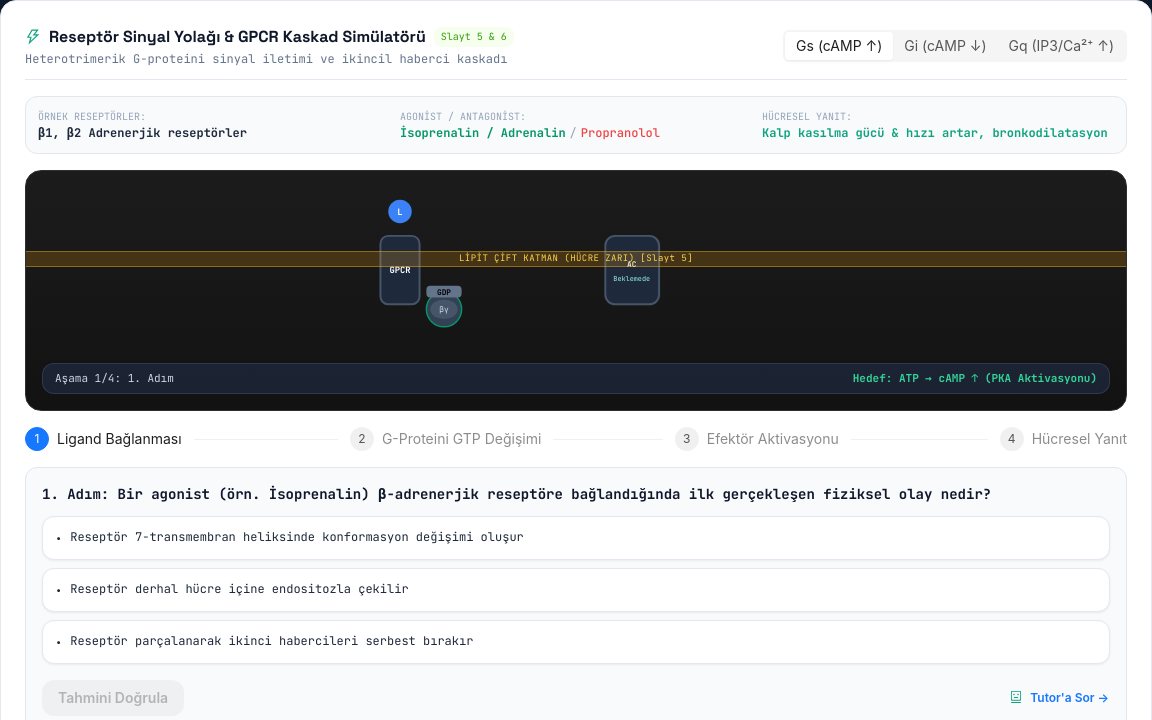
ReceptorSignalingVisualizer › switches to Gq subtype and updates membrane pathway details
Click the text "Gq (IP3/Ca²⁺ ↑)" at (1061, 46), box [1008,37,1114,54]
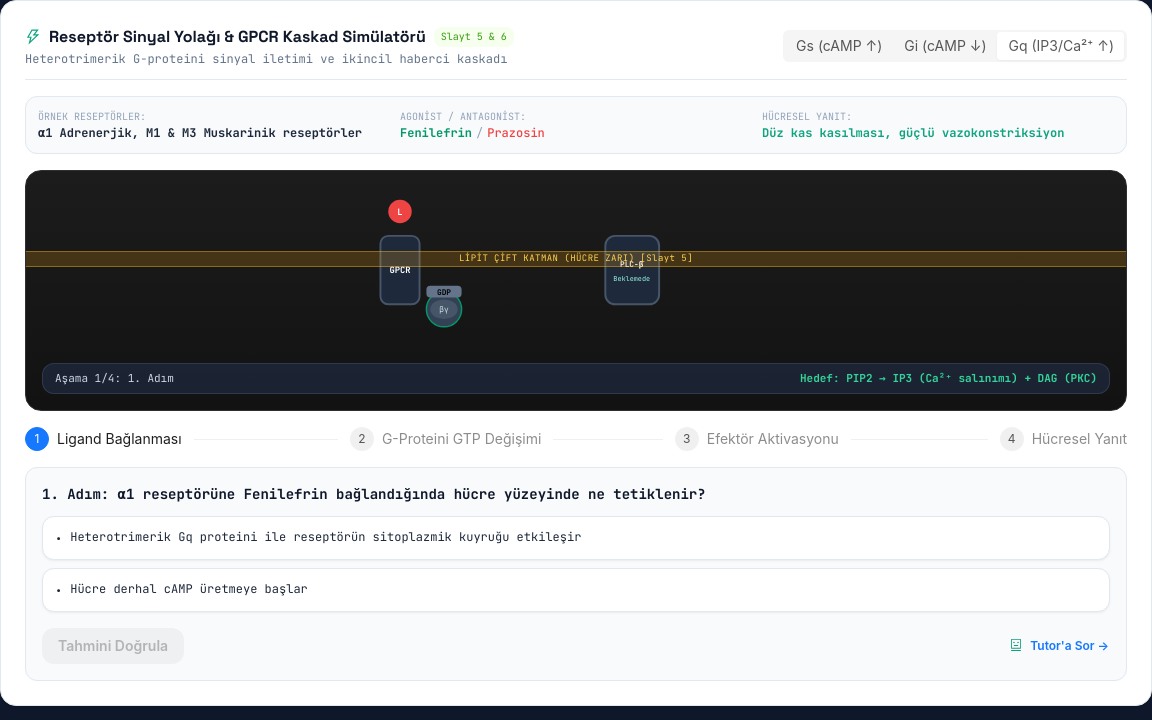
Check: the text "α1 Adrenerjik, M1 & M3 Muskarinik reseptörler" is shown, box [38,125,362,141]
Check: the text "Hedef: PIP2 → IP3 (Ca²⁺ salınımı) + DAG (PKC)" is shown, box [800,370,1097,386]
